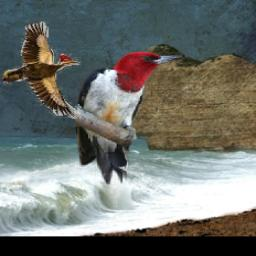Woodpecker: (76, 51, 183, 185), (0, 20, 82, 120)
